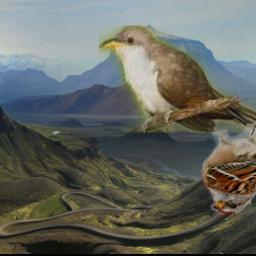Cuckoo: (99, 25, 256, 133)
Sparrow: (202, 123, 256, 215)
